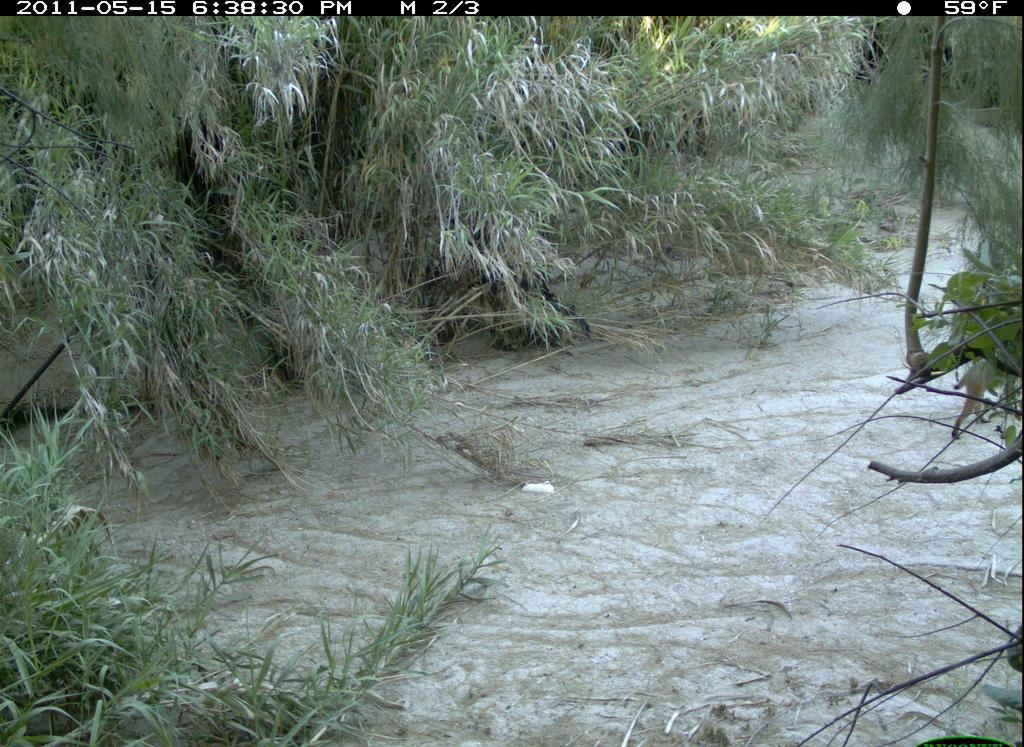bobcat: (949, 353, 1014, 450)
